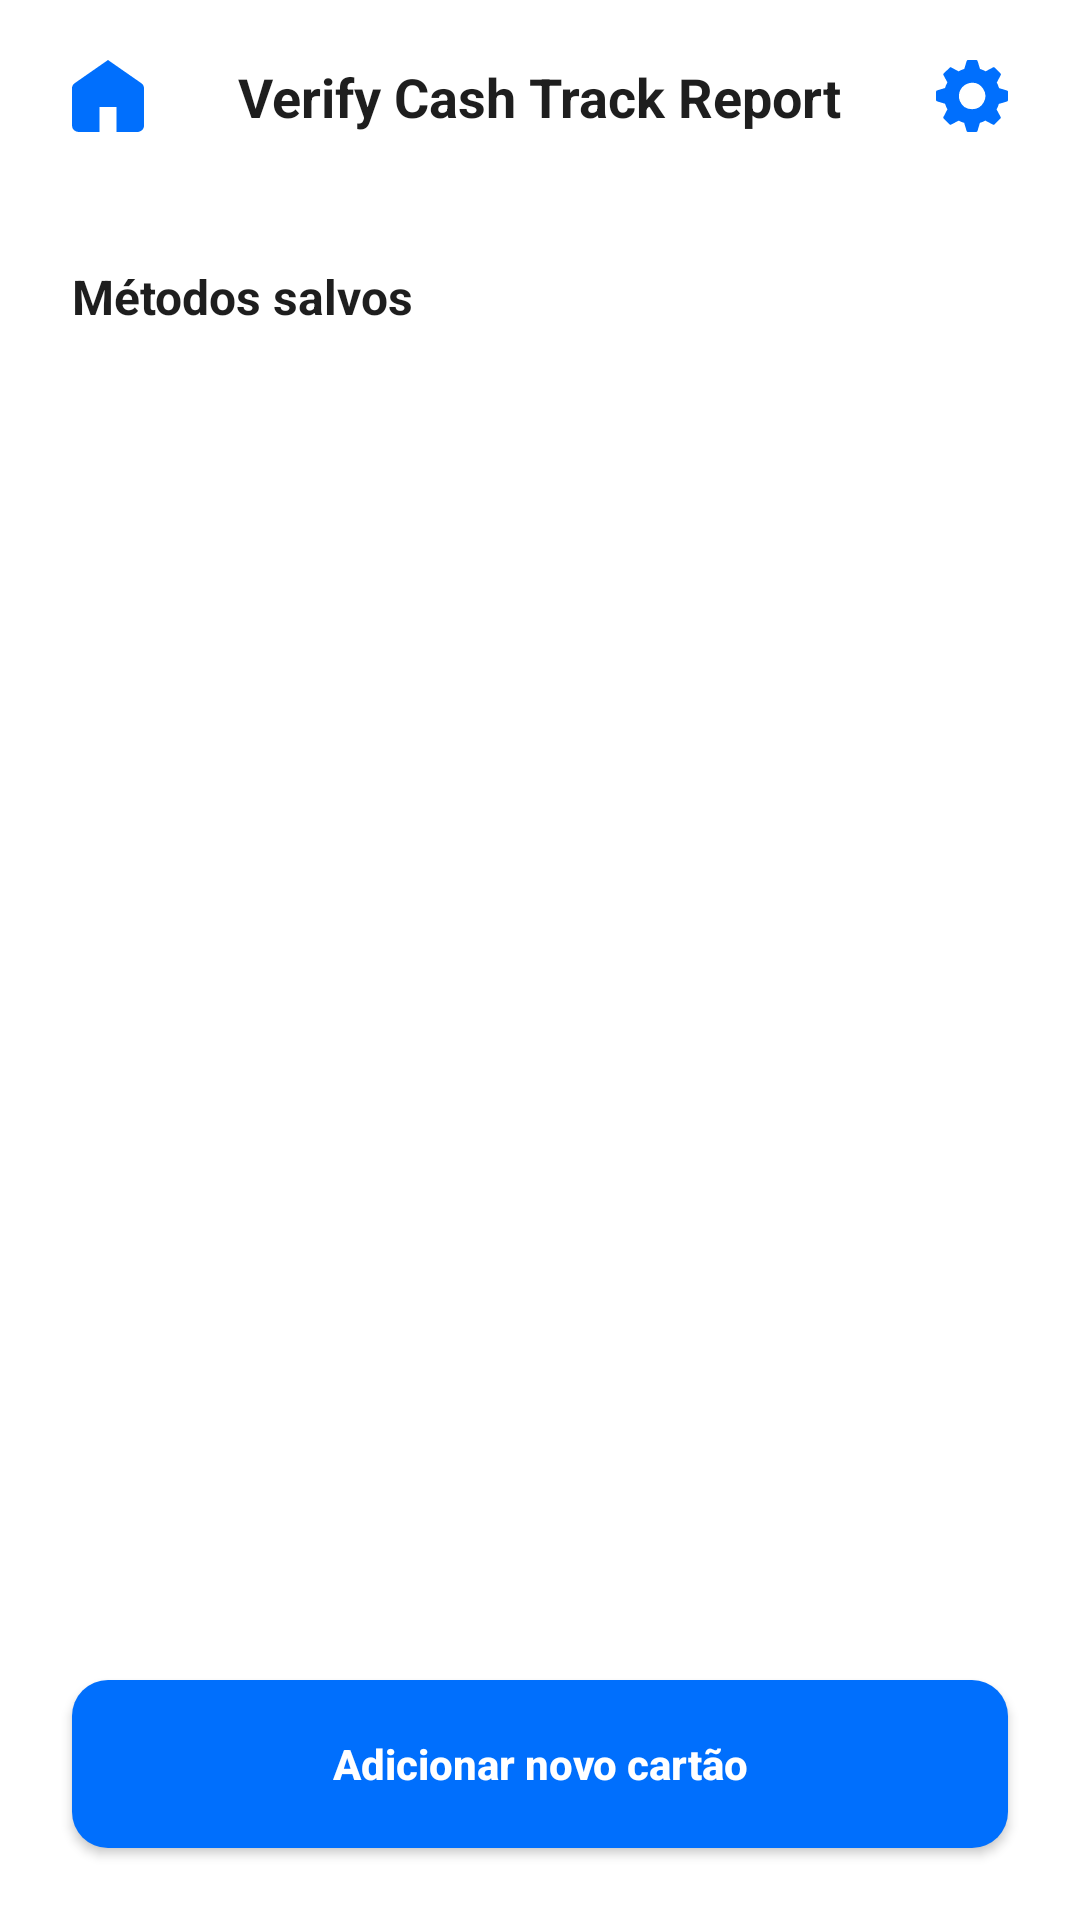

Where icons sit on this 1080*1920 app screen, as box=[x1, y1, x2, y2]:
Configurações: box=[936, 60, 1008, 132]
Home: box=[72, 60, 144, 132]
